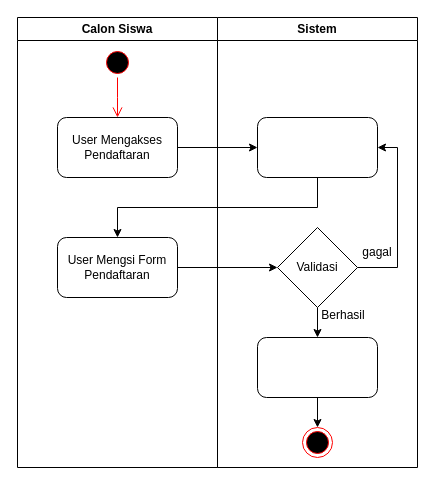
Image size: 435x485. Some labels were removed from this diagram. The shapes that lost their labels are listed below. From the top down, each one's centre as x and y in pixels, then its label:
point (317, 147): Sistem Menampilkan Form Pendaftaran
point (317, 367): Pendaftaran Berhasil
